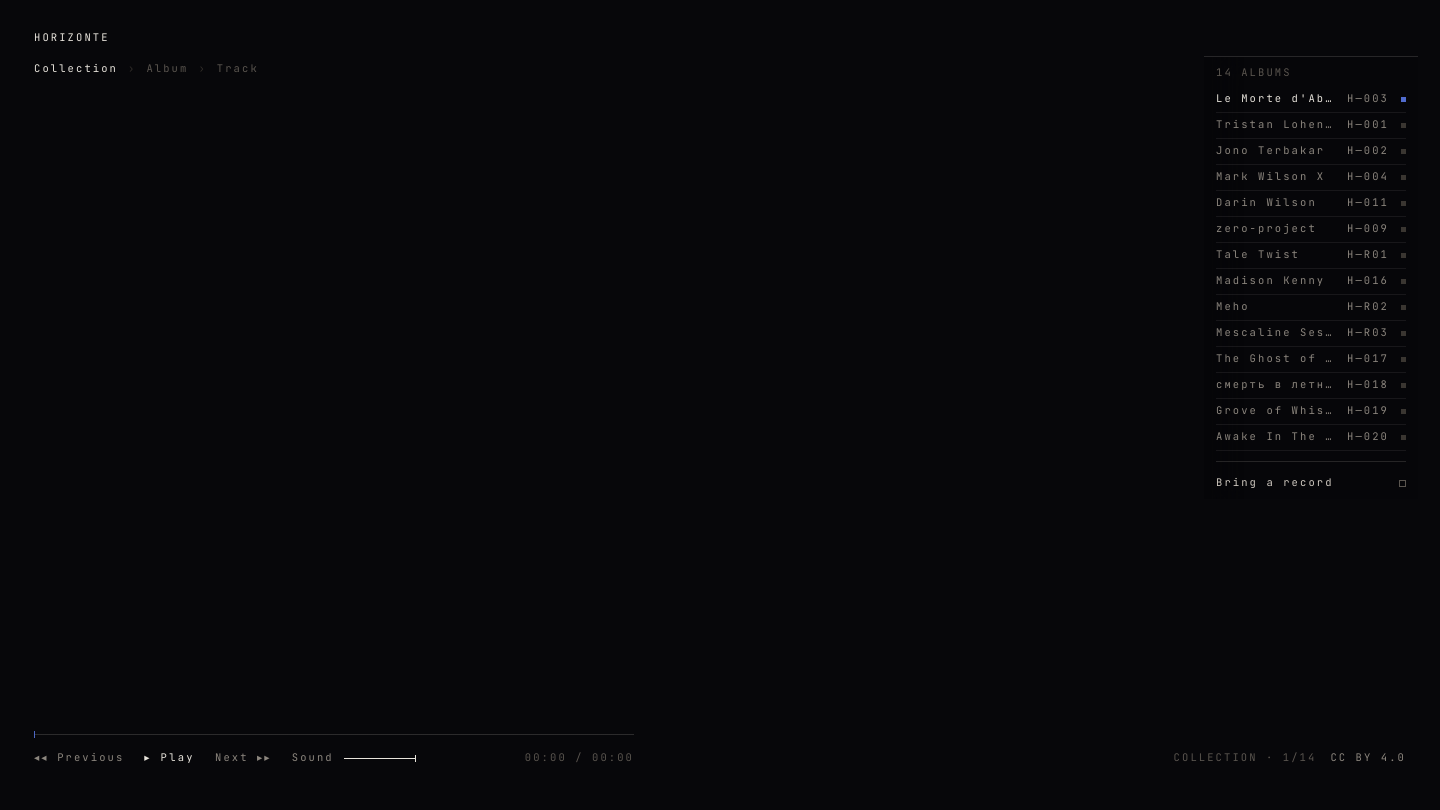
Scenario: volume › mute is a marked state, and sound returns when the level is touched
Click the button "Sound". click: (313, 758)
box: [292, 750, 334, 766]
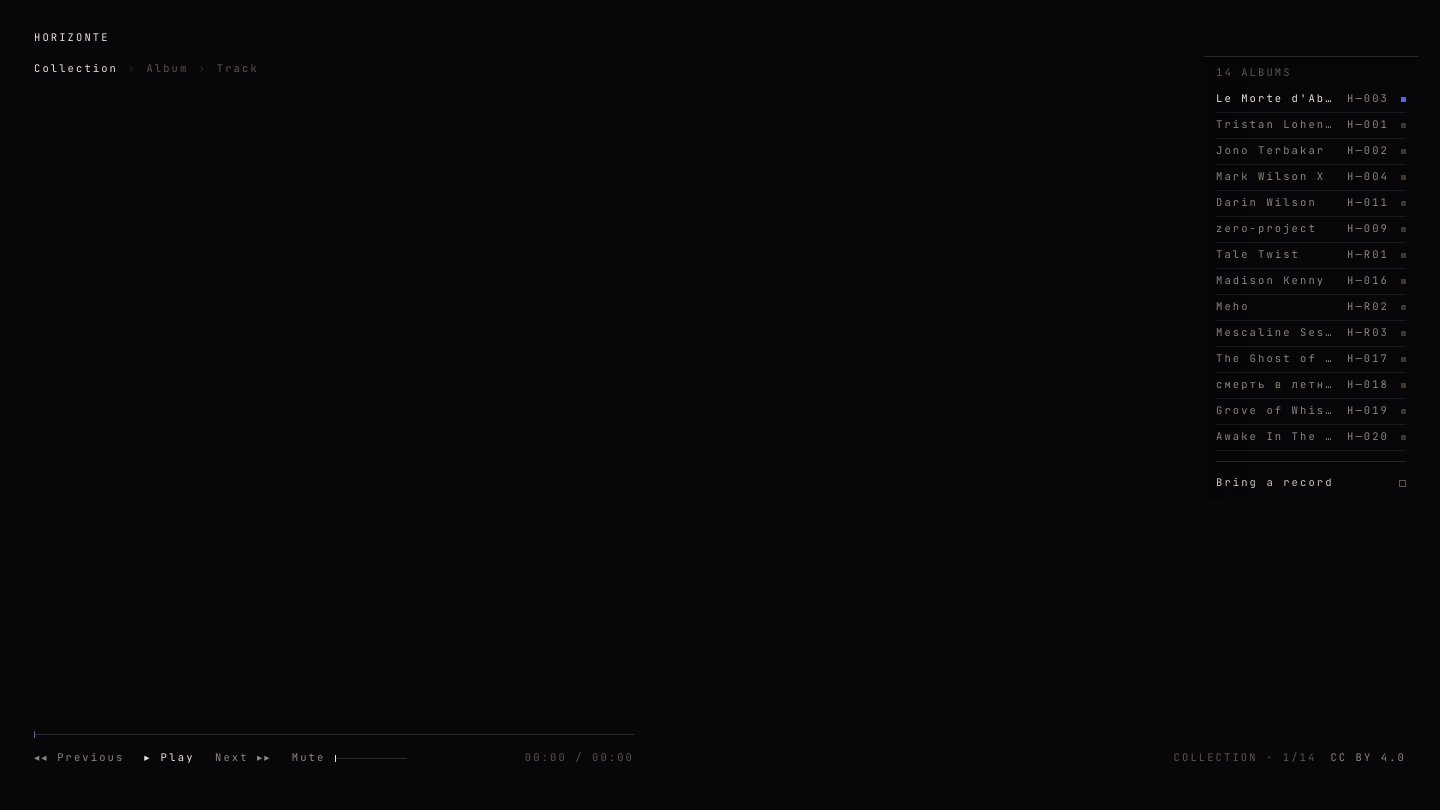
Check: the button "Mute" is pressed, box [292, 750, 325, 766]
Set the slider named "Volume" to "70". click: (382, 758)
box: [335, 754, 407, 763]
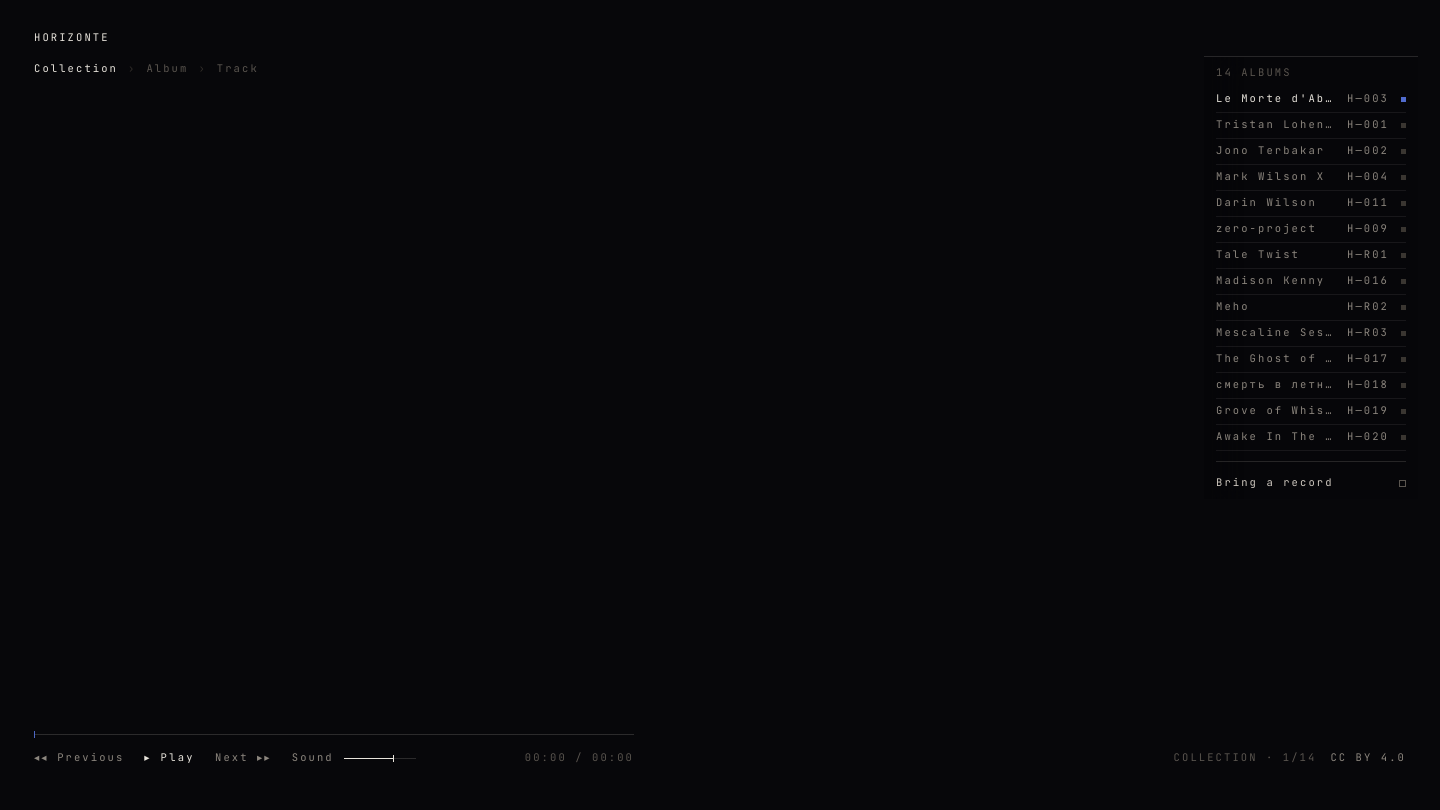
Check: the button "Sound" is shown, box [292, 750, 334, 766]
